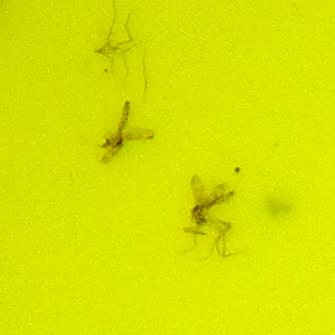Nematocera: (188, 189, 235, 235), (100, 100, 135, 157)
